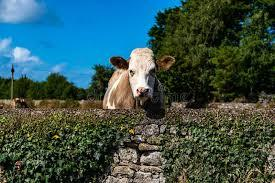cow: (103, 49, 176, 110)
